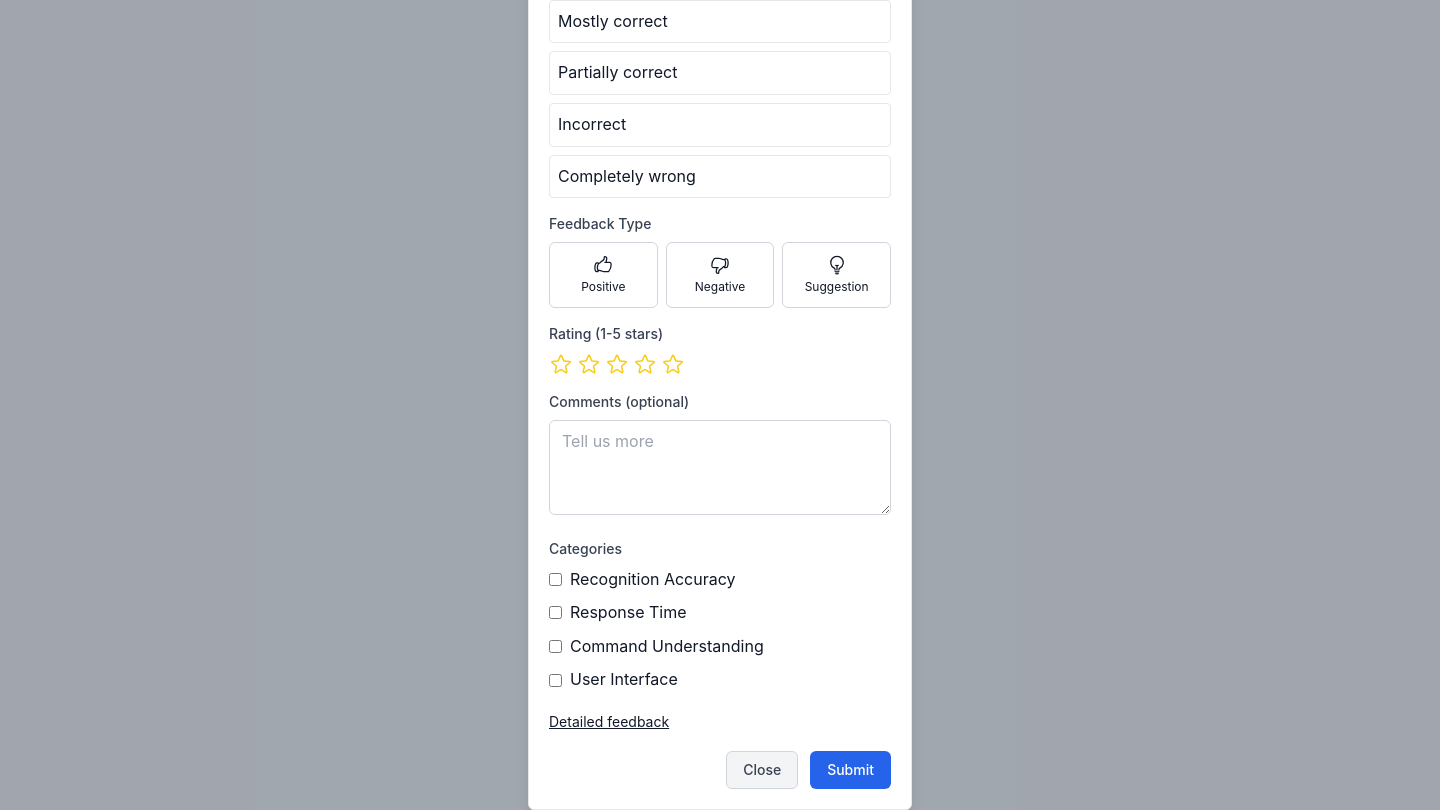
it: VoiceFeedbackModal › requires rating before submission
(page scrolled)
Click the button "Submit": (851, 770) [810,750,891,788]
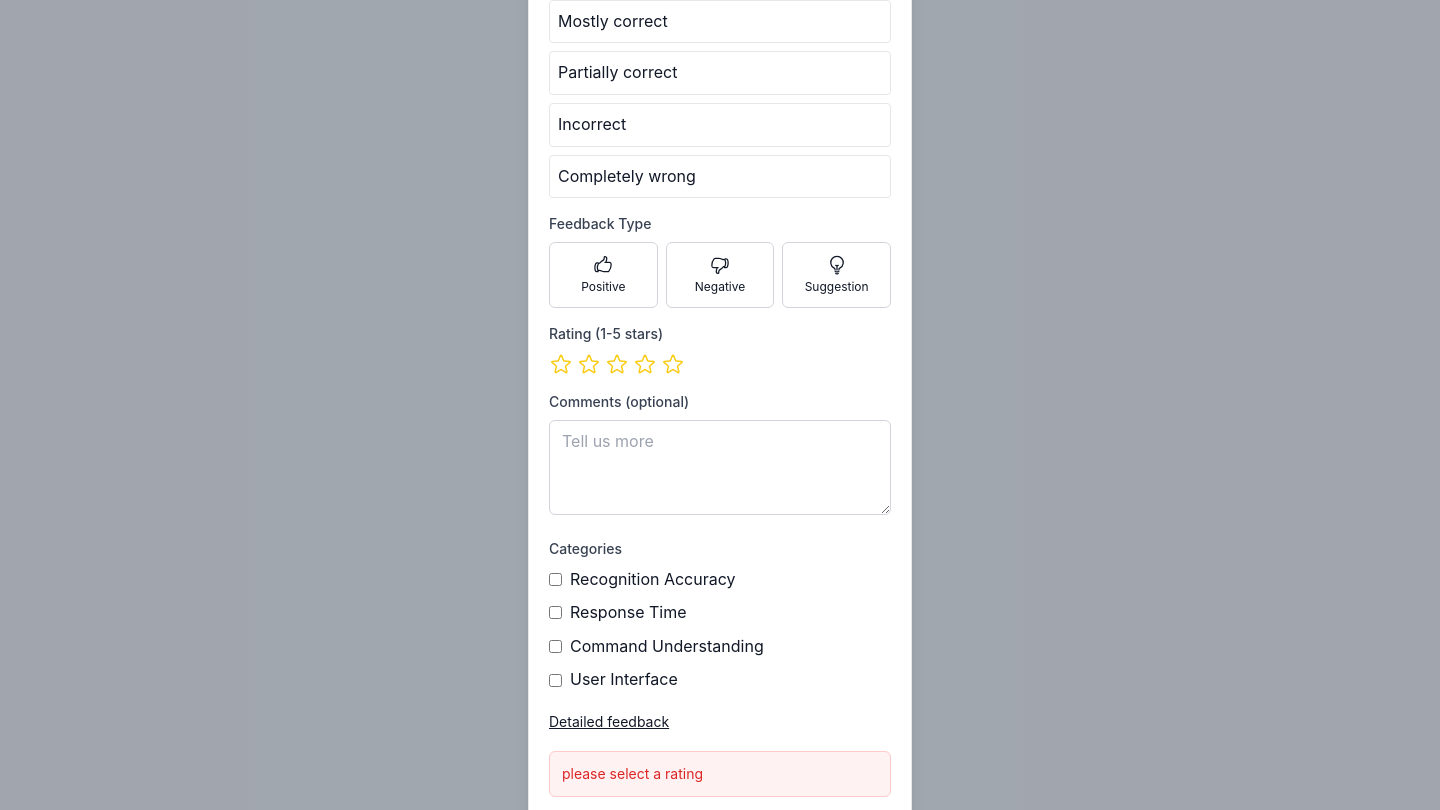
Check: the text "please select a rating" is shown, box [562,764,703,782]
